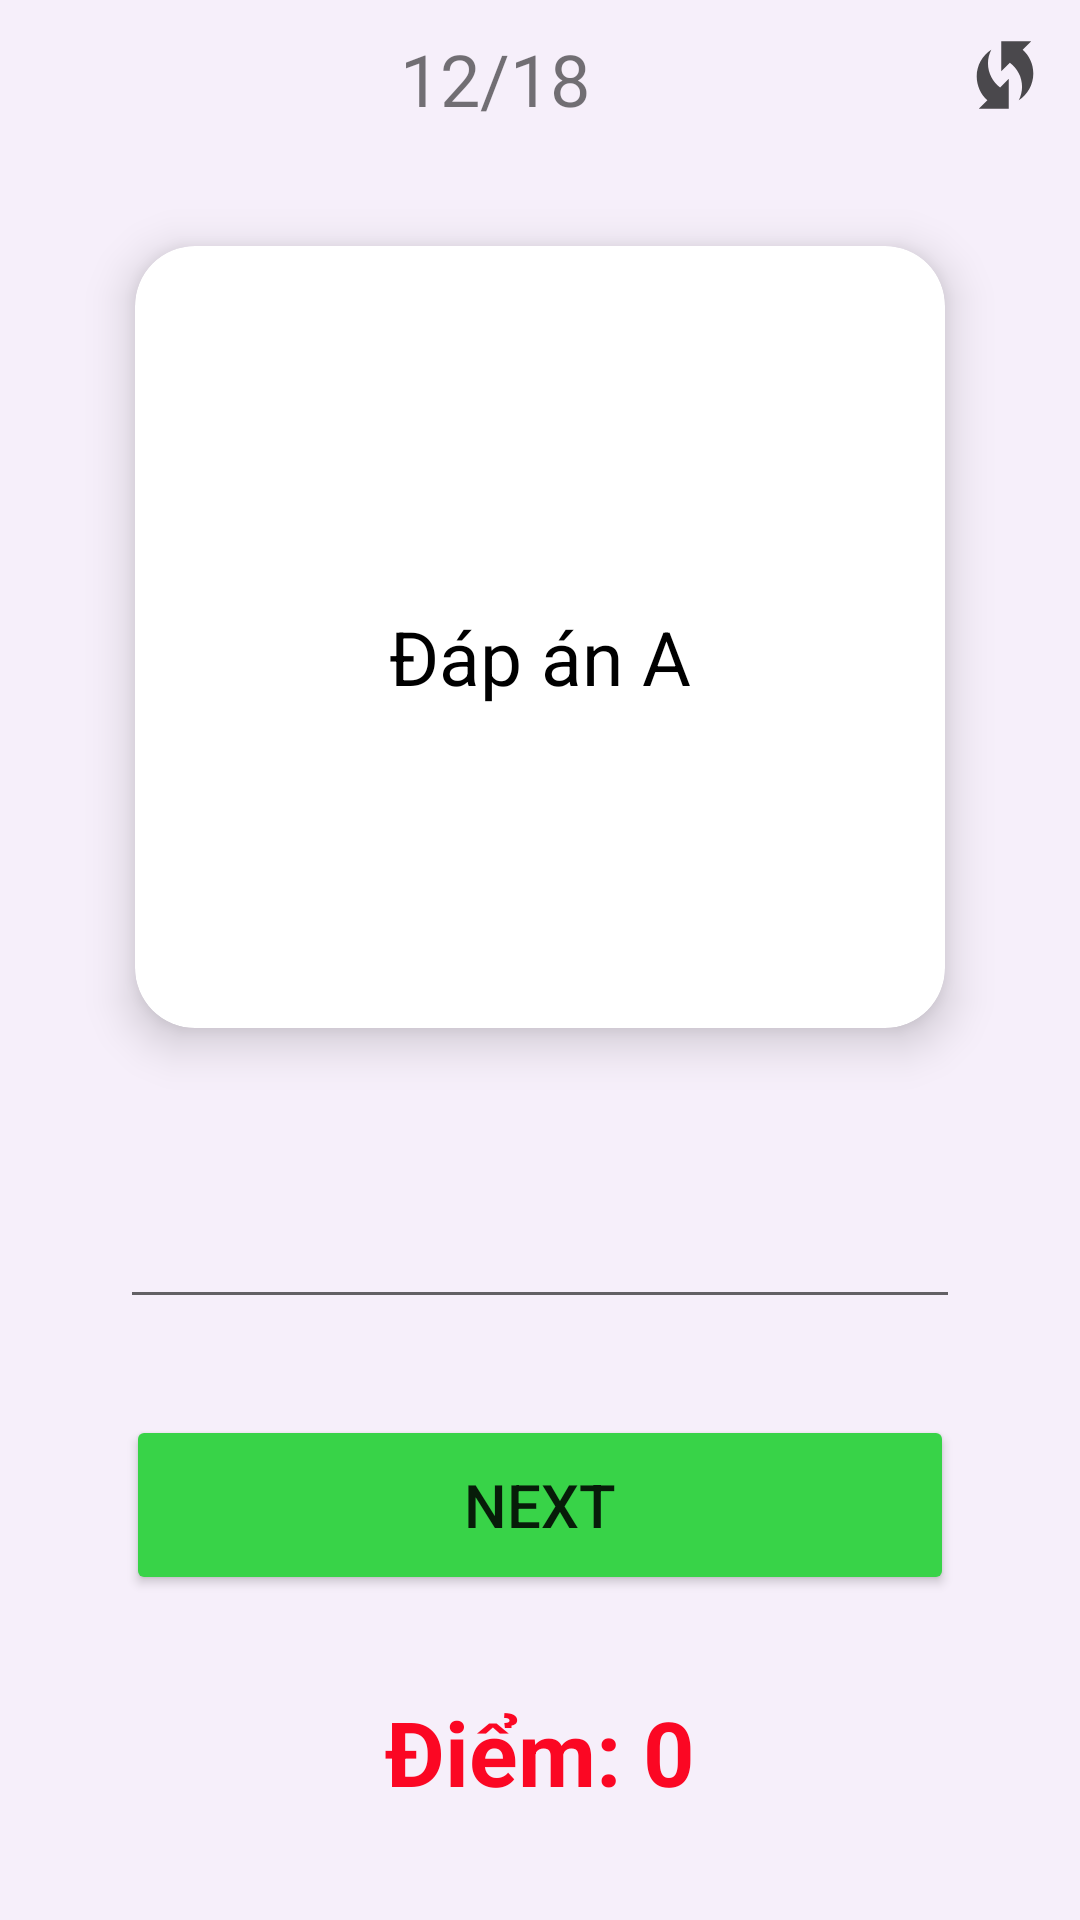

Screen size 1080 x 1920. Icon name, then its box in pixels as (x1, y1, x2, y2):
wifi protected setup: (976, 41, 1034, 109)
